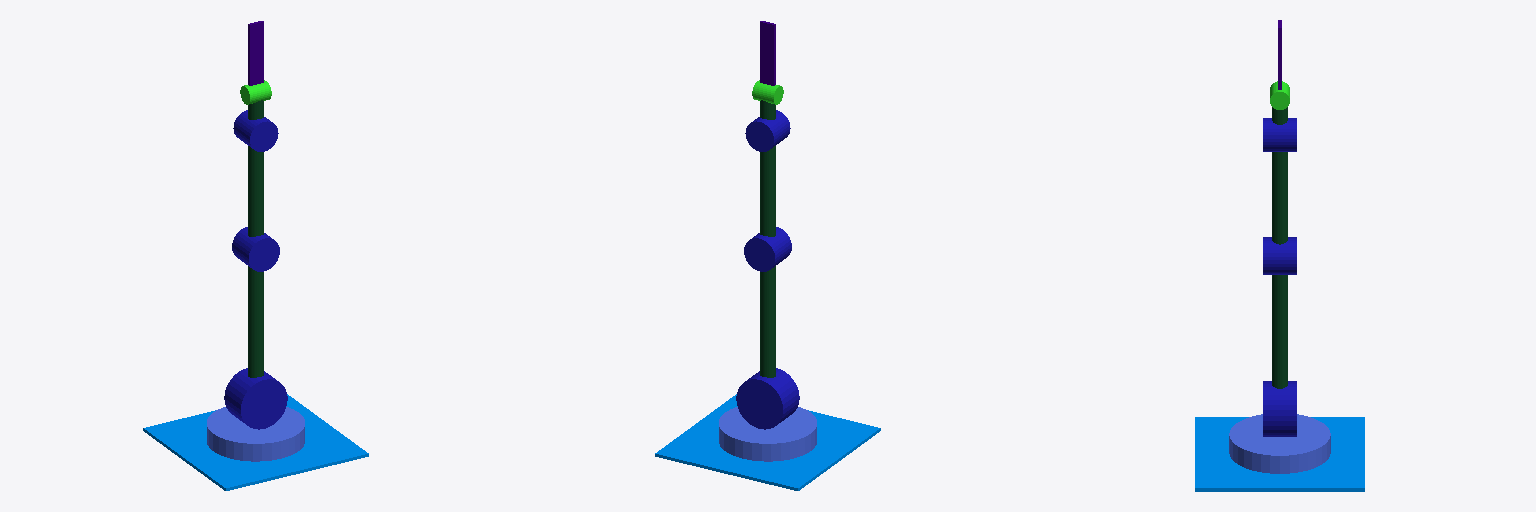
The robot description file, URDF, robot "robot":
<robot name="robot">
  <link name="base_footprint"></link>
  <joint name="base_joint" type="fixed">
    <parent link="base_footprint" />
    <child link="base_link" />
    <origin xyz="0 0 0.0004048057655643422" rpy="0 0 0" />
  </joint>
  <link name="base_link">
    <visual>
      <origin xyz="0 0 0" rpy="0 0 0" />
      <geometry>
        <box size="0.5 0.5 0.01" />
      </geometry>
      <material name="base_link-material">
        <color rgba="0 0.6038273388475408 1 1" />
      </material>
    </visual>
    <collision>
      <origin xyz="0 0 0" rpy="0 0 0" />
      <geometry>
        <box size="0.5 0.5 0.01" />
      </geometry>
    </collision>
    <inertial>
      <origin xyz="0 0 0" rpy="0 0 0" />
      <mass value="1" />
      <inertia ixx="0.16666666666666666" ixy="0" ixz="0" iyy="0.16666666666666666" iyz="0" izz="0.16666666666666666" />
    </inertial>
  </link>
  <joint name="base_link_to_Axis_0" type="revolute">
    <parent link="base_link" />
    <child link="Axis_0" />
    <origin xyz="0 0 0.035" rpy="0 0 0" />
    <axis xyz="0 0 1"/>
    <limit effort="1000.0" lower="-2.5" upper="2.5" velocity="0.5"/>  </joint>
  <link name="Axis_0">
    <visual>
      <origin xyz="0 0 0" rpy="0 0 0" />
      <geometry>
        <cylinder radius="0.15" length="0.059" />
      </geometry>
      <material name="Axis_0-material">
        <color rgba="0.3515325994898463 0.4735314961384573 0.9301108583738498 1" />
      </material>
    </visual>
    <collision>
      <origin xyz="0 0 0" rpy="0 0 0" />
      <geometry>
        <cylinder radius="0.15" length="0.059" />
      </geometry>
    </collision>
    <inertial>
      <origin xyz="0 0 0" rpy="0 0 0" />
      <mass value="1" />
      <inertia ixx="0.3333333333333333" ixy="0" ixz="0" iyy="0.5" iyz="0" izz="0.3333333333333333" />
    </inertial>
  </link>
  <joint name="Axis_0_to_Axis_1" type="revolute">
    <parent link="Axis_0" />
    <child link="Axis_1" />
    <origin xyz="0 0 0.11189588647115647" rpy="1.5707963267948963 0 0" />
    <axis xyz="0 0 1"/>
    <limit effort="1000.0" lower="-1.7" upper="1.7" velocity="0.5"/>  </joint>
  <link name="Axis_1">
    <visual>
      <origin xyz="0 0 0" rpy="0 0 0" />
      <geometry>
        <cylinder radius="0.082" length="0.1" />
      </geometry>
      <material name="Axis_1-material">
        <color rgba="0.14702726648767014 0.14126329113044458 0.7304607400847158 1" />
      </material>
    </visual>
    <collision>
      <origin xyz="0 0 0" rpy="0 0 0" />
      <geometry>
        <cylinder radius="0.082" length="0.1" />
      </geometry>
    </collision>
    <inertial>
      <origin xyz="0 0 0" rpy="0 0 0" />
      <mass value="1" />
      <inertia ixx="0.3333333333333333" ixy="0" ixz="0" iyy="0.5" iyz="0" izz="0.3333333333333333" />
    </inertial>
  </link>
  <joint name="Axis_1_to_Segment_1" type="fixed">
    <parent link="Axis_1" />
    <child link="Segment_1" />
    <origin xyz="0 0.2350831500270899 0" rpy="-1.5707963267948963 0 0" />
  </joint>
  <link name="Segment_1">
    <visual>
      <origin xyz="0 0 0" rpy="0 0 0" />
      <geometry>
        <cylinder radius="0.025" length="0.473" />
      </geometry>
      <material name="Segment_1-material">
        <color rgba="0.09084171117479915 0.3231432091022285 0.1844749944900301 1" />
      </material>
    </visual>
    <collision>
      <origin xyz="0 0 0" rpy="0 0 0" />
      <geometry>
        <cylinder radius="0.025" length="0.473" />
      </geometry>
    </collision>
    <inertial>
      <origin xyz="0 0 0" rpy="0 0 0" />
      <mass value="1" />
      <inertia ixx="0.3333333333333333" ixy="0" ixz="0" iyy="0.5" iyz="0" izz="0.3333333333333333" />
    </inertial>
  </link>
  <joint name="Segment_1_to_Axis_2" type="revolute">
    <parent link="Segment_1" />
    <child link="Axis_2" />
    <origin xyz="0 -5.219894517229704e-17 0.2637568842473722" rpy="1.5707963267948963 0 0" />
    <axis xyz="0 0 1"/>
    <limit effort="1000.0" lower="-1.6" upper="1.6" velocity="0.5"/>  </joint>
  <link name="Axis_2">
    <visual>
      <origin xyz="0 0 0" rpy="0 0 0" />
      <geometry>
        <cylinder radius="0.055" length="0.1" />
      </geometry>
      <material name="Axis_2-material">
        <color rgba="0.14702726648767014 0.14126329113044458 0.7304607400847158 1" />
      </material>
    </visual>
    <collision>
      <origin xyz="0 0 0" rpy="0 0 0" />
      <geometry>
        <cylinder radius="0.055" length="0.1" />
      </geometry>
    </collision>
    <inertial>
      <origin xyz="0 0 0" rpy="0 0 0" />
      <mass value="1" />
      <inertia ixx="0.3333333333333333" ixy="0" ixz="0" iyy="0.5" iyz="0" izz="0.3333333333333333" />
    </inertial>
  </link>
  <joint name="Axis_2_to_Segment_2" type="fixed">
    <parent link="Axis_2" />
    <child link="Segment_2" />
    <origin xyz="0 0.19535682173790003 0" rpy="-1.5707963267948963 0 0" />
  </joint>
  <link name="Segment_2">
    <visual>
      <origin xyz="0 0 0" rpy="0 0 0" />
      <geometry>
        <cylinder radius="0.025" length="0.393" />
      </geometry>
      <material name="Segment_2-material">
        <color rgba="0.09084171117479915 0.3231432091022285 0.1844749944900301 1" />
      </material>
    </visual>
    <collision>
      <origin xyz="0 0 0" rpy="0 0 0" />
      <geometry>
        <cylinder radius="0.025" length="0.393" />
      </geometry>
    </collision>
    <inertial>
      <origin xyz="0 0 0" rpy="0 0 0" />
      <mass value="1" />
      <inertia ixx="0.3333333333333333" ixy="0" ixz="0" iyy="0.5" iyz="0" izz="0.3333333333333333" />
    </inertial>
  </link>
  <joint name="Segment_2_to_Axis_3" type="revolute">
    <parent link="Segment_2" />
    <child link="Axis_3" />
    <origin xyz="0 -4.337792830220178e-17 0.199625776257357" rpy="1.5707963267948963 0 0" />
    <axis xyz="0 0 1"/>
    <limit effort="1000.0" lower="-1.6" upper="1.6" velocity="0.5"/>  </joint>
  <link name="Axis_3">
    <visual>
      <origin xyz="0 0 0" rpy="0 0 0" />
      <geometry>
        <cylinder radius="0.05" length="0.1" />
      </geometry>
      <material name="Axis_3-material">
        <color rgba="0.14702726648767014 0.14126329113044458 0.7304607400847158 1" />
      </material>
    </visual>
    <collision>
      <origin xyz="0 0 0" rpy="0 0 0" />
      <geometry>
        <cylinder radius="0.05" length="0.1" />
      </geometry>
    </collision>
    <inertial>
      <origin xyz="0 0 0" rpy="0 0 0" />
      <mass value="1" />
      <inertia ixx="0.3333333333333333" ixy="0" ixz="0" iyy="0.5" iyz="0" izz="0.3333333333333333" />
    </inertial>
  </link>
  <joint name="Axis_3_to_Segment_3" type="fixed">
    <parent link="Axis_3" />
    <child link="Segment_3" />
    <origin xyz="0 0.0639352434565239 0" rpy="-1.5707963267948963 0 0" />
  </joint>
  <link name="Segment_3">
    <visual>
      <origin xyz="0 0 0" rpy="0 0 0" />
      <geometry>
        <cylinder radius="0.025" length="0.135" />
      </geometry>
      <material name="Segment_3-material">
        <color rgba="0.09084171117479915 0.3231432091022285 0.1844749944900301 1" />
      </material>
    </visual>
    <collision>
      <origin xyz="0 0 0" rpy="0 0 0" />
      <geometry>
        <cylinder radius="0.025" length="0.135" />
      </geometry>
    </collision>
    <inertial>
      <origin xyz="0 0 0" rpy="0 0 0" />
      <mass value="1" />
      <inertia ixx="0.3333333333333333" ixy="0" ixz="0" iyy="0.5" iyz="0" izz="0.3333333333333333" />
    </inertial>
  </link>
  <joint name="Segment_3_to_Axis_4" type="revolute">
    <parent link="Segment_3" />
    <child link="Axis_4" />
    <origin xyz="0 0 0.06322478264191167" rpy="0 1.5707963267948966 0" />
    <axis xyz="0 0 1"/>
    <limit effort="1000.0" lower="-1.6" upper="1.6" velocity="0.5"/>  </joint>
  <link name="Axis_4">
    <visual>
      <origin xyz="0 0 0" rpy="0 0 0" />
      <geometry>
        <cylinder radius="0.03" length="0.075" />
      </geometry>
      <material name="Axis_4-material">
        <color rgba="0.23455058215026167 0.9301108583738498 0.21952619971859377 1" />
      </material>
    </visual>
    <collision>
      <origin xyz="0 0 0" rpy="0 0 0" />
      <geometry>
        <cylinder radius="0.03" length="0.075" />
      </geometry>
    </collision>
    <inertial>
      <origin xyz="0 0 0" rpy="0 0 0" />
      <mass value="1" />
      <inertia ixx="0.3333333333333333" ixy="0" ixz="0" iyy="0.5" iyz="0" izz="0.3333333333333333" />
    </inertial>
  </link>
  <joint name="Axis_4_to_Axis_4_C" type="continuous">
    <parent link="Axis_4" />
    <child link="Axis_4_C" />
    <origin xyz="0.0009533507860803557 0 0" rpy="0 -1.5707963267948966 0" />
    <axis xyz="0 0 1"/>
  </joint>
  <link name="Axis_4_C">
    <visual>
      <origin xyz="0 0 0" rpy="0 0 0" />
      <geometry>
        <cylinder radius="0.02" length="0.01" />
      </geometry>
      <material name="Axis_4_C-material">
        <color rgba="0.006048833020386069 0.407240211891531 0.15592646369776456 1" />
      </material>
    </visual>
    <collision>
      <origin xyz="0 0 0" rpy="0 0 0" />
      <geometry>
        <cylinder radius="0.02" length="0.01" />
      </geometry>
    </collision>
    <inertial>
      <origin xyz="0 0 0" rpy="0 0 0" />
      <mass value="1" />
      <inertia ixx="0.3333333333333333" ixy="0" ixz="0" iyy="0.5" iyz="0" izz="0.3333333333333333" />
    </inertial>
  </link>
  <joint name="Axis_4_C_to_Effector" type="fixed">
    <parent link="Axis_4_C" />
    <child link="Effector" />
    <origin xyz="0 0 0.11784425946097143" rpy="0 0 0" />
  </joint>
  <link name="Effector">
    <visual>
      <origin xyz="0 0 0" rpy="0 0 0" />
      <geometry>
        <box size="0.05 0.01 0.233" />
      </geometry>
      <material name="Effector-material">
        <color rgba="0.2746773120495699 0.01680737574872402 0.5711248294565854 1" />
      </material>
    </visual>
    <collision>
      <origin xyz="0 0 0" rpy="0 0 0" />
      <geometry>
        <box size="0.01 0.01 0.233" />
      </geometry>
    </collision>
    <inertial>
      <origin xyz="0 0 0" rpy="0 0 0" />
      <mass value="1" />
      <inertia ixx="0.16666666666666666" ixy="0" ixz="0" iyy="0.16666666666666666" iyz="0" izz="0.16666666666666666" />
    </inertial>
  </link>
</robot>

--- What the picture shows (computed from the rendered views, not written in the file) ---
3 views of the same robot in one strip: view 1: azimuth 30°, elevation 25°; view 2: azimuth 150°, elevation 25°; view 3: azimuth 270°, elevation 25° (orthographic).
Robot: robot — 12 links, 11 joints (5 revolute, 1 continuous, 5 fixed); root link base_footprint; default pose: every joint at zero.
Links seen in each view (by area): view 1: base_link, Axis_0, Axis_1, Segment_1, Axis_2, Segment_2, Axis_3, Effector, Axis_4; view 2: base_link, Axis_0, Axis_1, Segment_1, Axis_2, Segment_2, Axis_3, Effector, Axis_4; view 3: base_link, Axis_0, Segment_1, Axis_1, Segment_2, Axis_2, Axis_3.
Link boxes in pixels (left/top/right/bottom): base_link: left=143, top=394, right=368, bottom=490; Axis_0: left=207, top=407, right=304, bottom=461; Axis_1: left=224, top=368, right=287, bottom=429; Segment_1: left=248, top=266, right=263, bottom=377; Axis_2: left=232, top=227, right=279, bottom=271; Segment_2: left=248, top=146, right=263, bottom=236; Axis_3: left=233, top=110, right=278, bottom=151; Effector: left=248, top=21, right=263, bottom=85; Axis_4: left=240, top=80, right=271, bottom=104; base_link: left=655, top=394, right=880, bottom=490; Axis_0: left=719, top=407, right=816, bottom=461; Axis_1: left=736, top=368, right=799, bottom=429; Segment_1: left=760, top=266, right=775, bottom=377; Axis_2: left=744, top=227, right=791, bottom=271; Segment_2: left=760, top=146, right=775, bottom=236; Axis_3: left=745, top=110, right=790, bottom=151; Effector: left=760, top=21, right=775, bottom=85; Axis_4: left=752, top=80, right=783, bottom=104; base_link: left=1195, top=417, right=1364, bottom=491; Axis_0: left=1229, top=414, right=1330, bottom=473; Segment_1: left=1272, top=275, right=1287, bottom=388; Axis_1: left=1263, top=381, right=1296, bottom=436; Segment_2: left=1272, top=152, right=1287, bottom=244; Axis_2: left=1263, top=237, right=1296, bottom=274; Axis_3: left=1263, top=118, right=1296, bottom=151.
Size in the robot's own frame: 0.5 by 0.5 by 1.41 metres.
Geometry: primitives only (box / cylinder / sphere), no mesh files.
